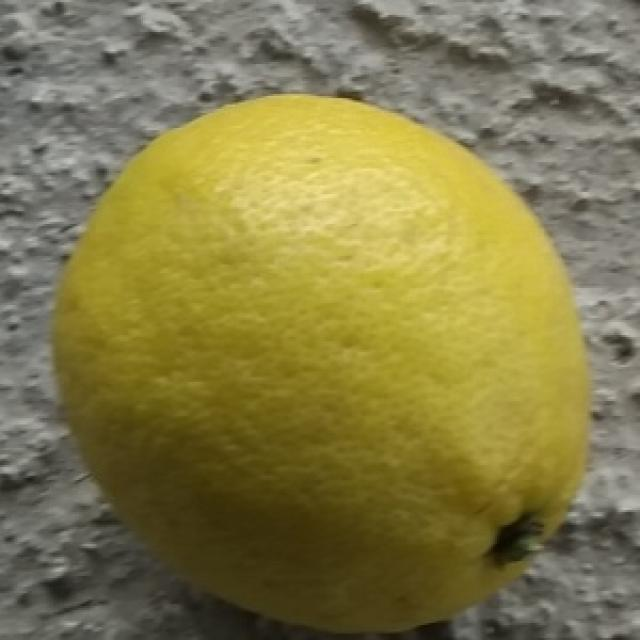Ripe: (53, 86, 598, 638)
